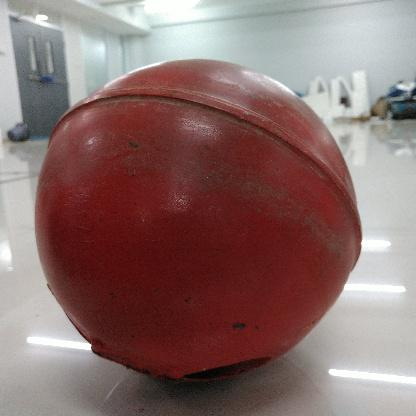red_buoy: (36, 60, 362, 382)
